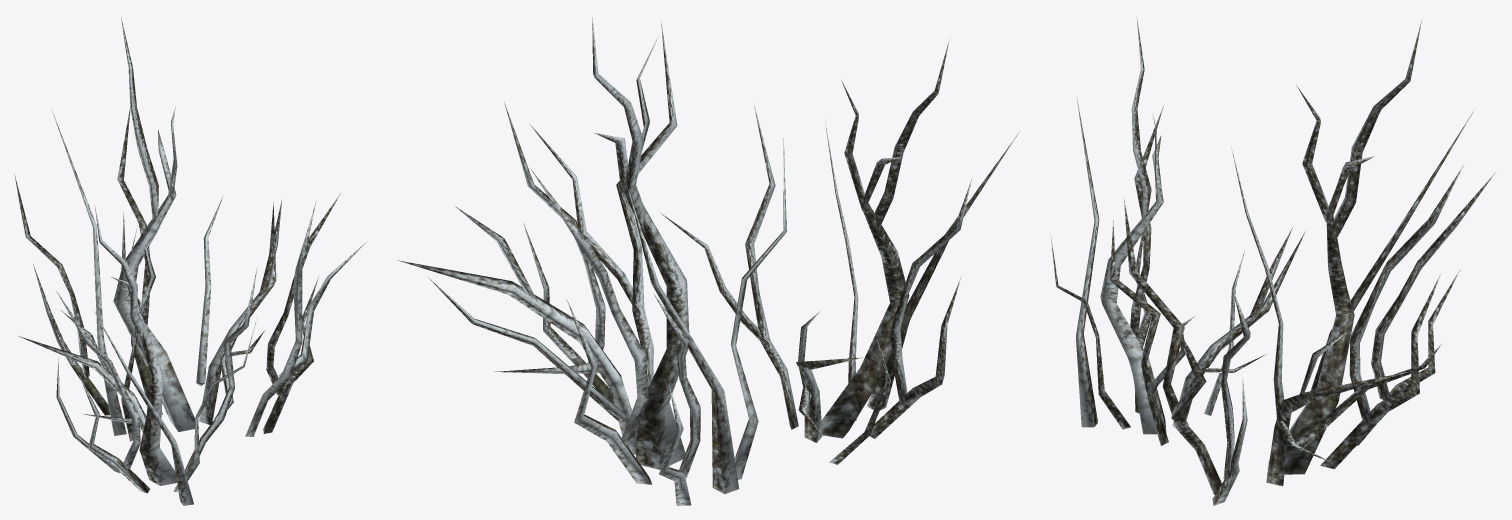
Rendered from S_Tree_White006.FBX.
3 renders of one model, left to right at view 1: azimuth 30°, elevation 25°; view 2: azimuth 150°, elevation 25°; view 3: azimuth 270°, elevation 25°, orthographic. The views are drawn at different scales.
Parts seen in each view (by area): view 1: S_Tree_White006; view 2: S_Tree_White006; view 3: S_Tree_White006.
Part boxes in pixels (x1,y1,x2,y2): S_Tree_White006: [14, 15, 366, 505]; S_Tree_White006: [397, 16, 1019, 505]; S_Tree_White006: [1050, 16, 1496, 505].
Bounding box in the file's own units: 521 × 521 × 578.
